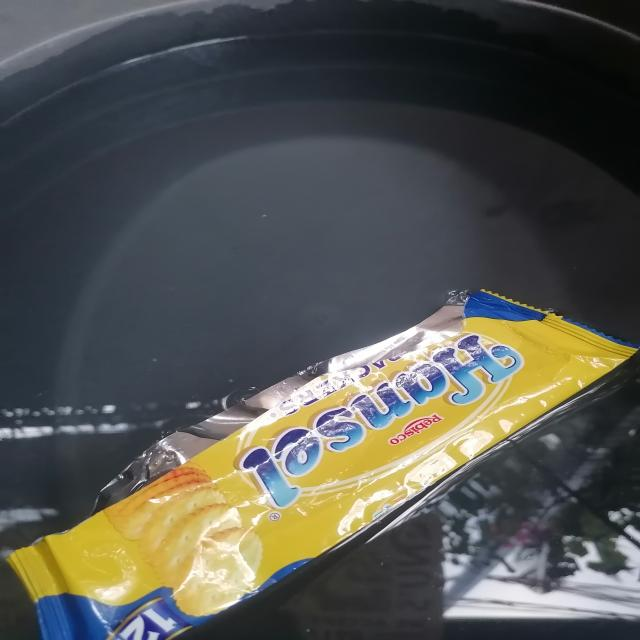Plastic Wrapper: (0, 269, 640, 640)
